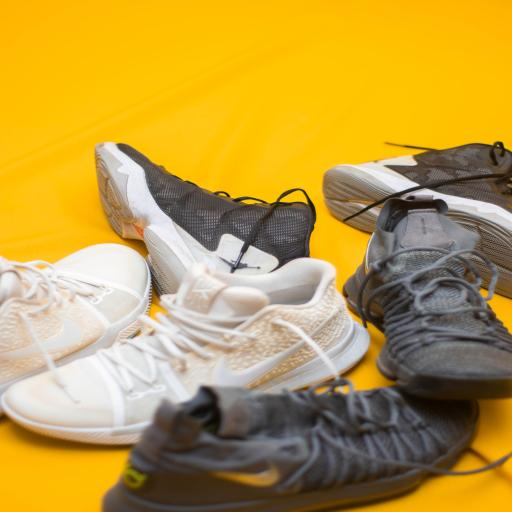shoe: (3, 259, 369, 444), (103, 380, 478, 511), (344, 196, 511, 398), (96, 143, 315, 296), (324, 143, 511, 297), (0, 244, 151, 395)
